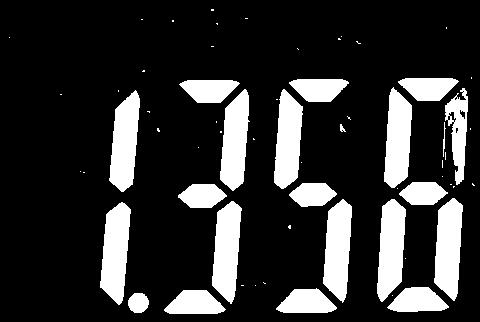1: (96, 85, 140, 310)
3: (163, 77, 252, 317)
5: (271, 73, 356, 315)
8: (373, 74, 472, 317)
dot: (126, 293, 152, 315)
